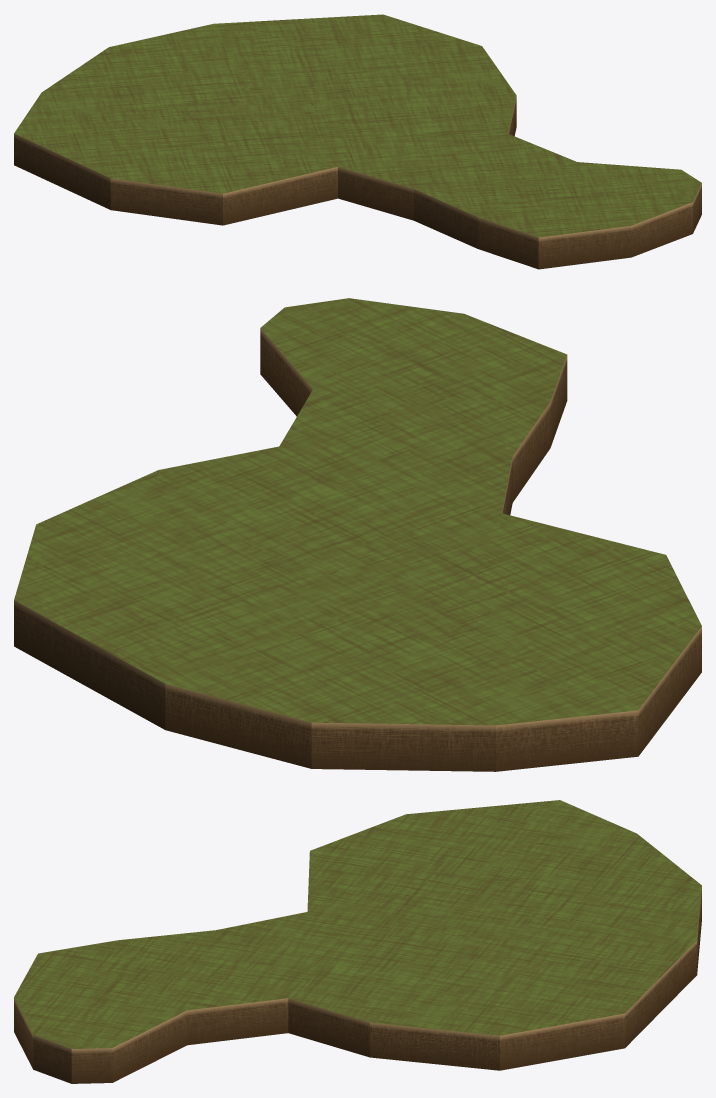
File: Terrain04_F.FBX
The picture shows the model from 3 angles, top to bottom: view 1: azimuth 30°, elevation 25°; view 2: azimuth 150°, elevation 25°; view 3: azimuth 270°, elevation 25°; orthographic projection. The views are drawn at different scales.
Visible parts, largest first — view 1: Terrain04_F; view 2: Terrain04_F; view 3: Terrain04_F.
Boxes of the visible parts, x1,y1,x2,y2 form: Terrain04_F: [14, 14, 701, 269]; Terrain04_F: [14, 298, 701, 771]; Terrain04_F: [14, 800, 701, 1083].
Bounding box in the file's own units: 765 × 49.97 × 893.
1 material, 1 textured.
